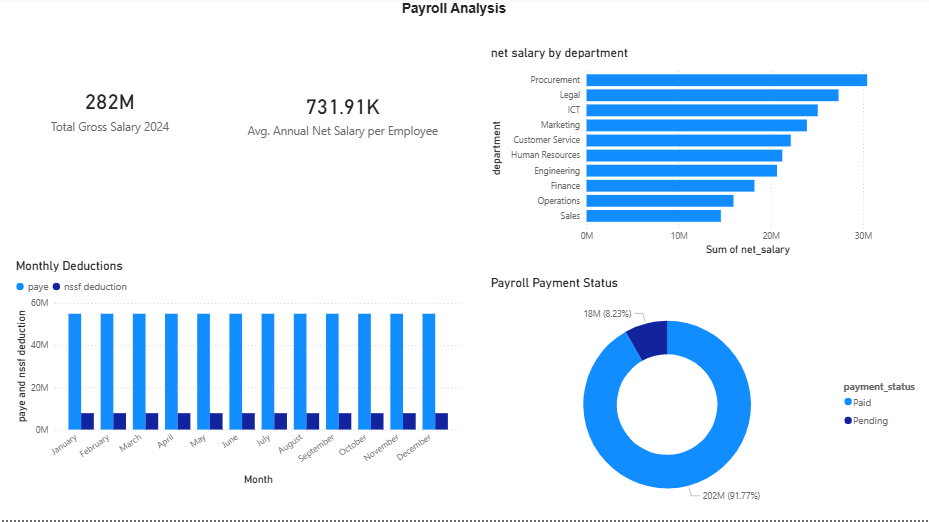

What the dashboard file says about the page in this screenshot:
{"tool":"powerbi","page":{"name":"Page 2","canvas":[1280,720],"ordinal":1},"visuals":[{"type":"clusteredColumnChart","title":"Monthly Deductions","fields":{"Y":["Sum(public payroll.paye)","Sum(public payroll.nssf_deduction)"],"Category":["public attendance.date.Variation.Date Hierarchy.Month"]},"box":[16.8,359.5,623.2,317.5],"z":1000},{"type":"donutChart","title":"Payroll Payment Status","fields":{"Category":["public payroll.payment_status"],"Y":["Sum(public payroll.net_salary)"]},"box":[670.2,383,609.8,337.6],"z":2000},{"type":"barChart","title":"net salary by department","fields":{"Y":["Sum(public payroll.net_salary)"],"Category":["public employees.public positions.department"]},"box":[670.2,65.5,598,294],"z":3000},{"type":"textbox","box":[100.8,0,1043.1,52.1],"z":4000},{"type":"card","fields":{"Values":["Sum(public payroll.gross_salary)"]},"box":[0,40.3,302.4,226.8],"z":4001},{"type":"card","fields":{"Values":["public payroll.average_cost_per_employee_per_department"]},"box":[302.4,52.1,337.6,215],"z":4002}]}

Visuals, with their boxes in screenshot pixels (x1, y1, x2, y2), scaled from the page's 1280x720 canvas onto the 929x522 screenshot:
"Monthly Deductions" clusteredColumnChart: bbox=[12, 261, 464, 491]
"Payroll Payment Status" donutChart: bbox=[486, 278, 928, 521]
"net salary by department" barChart: bbox=[486, 47, 920, 261]
textbox: bbox=[73, 0, 830, 38]
card - Sum(public payroll.gross_salary): bbox=[0, 29, 219, 194]
card - public payroll.average_cost_per_employee_per_department: bbox=[219, 38, 464, 194]
